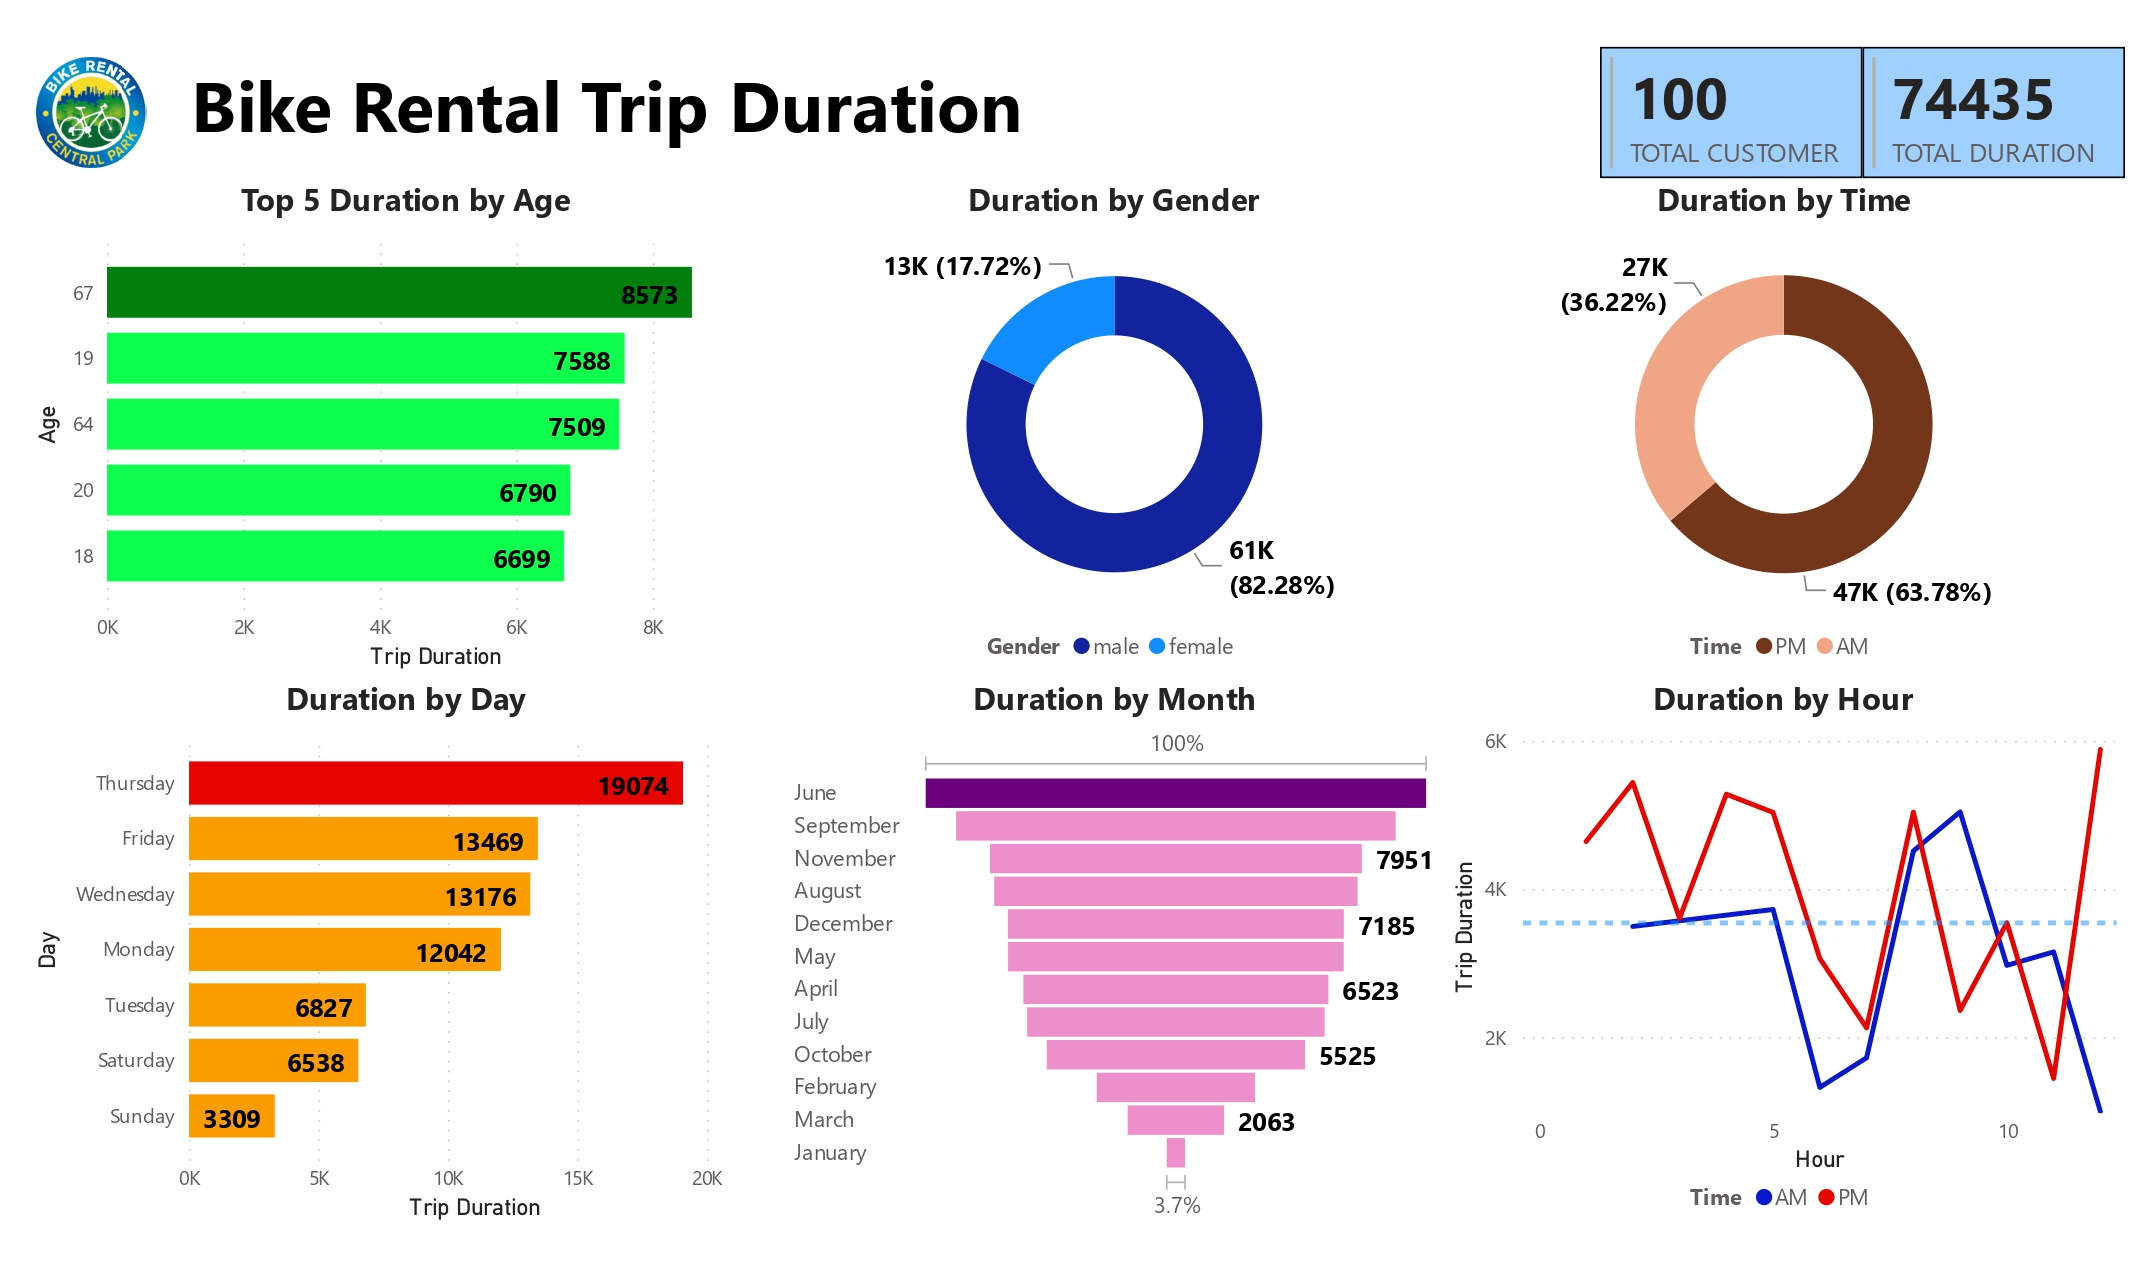

This screenshot's page, from the dashboard's own definition file:
{"tool":"powerbi","page":{"name":"Trip Duration","canvas":[1280,720],"ordinal":1},"visuals":[{"type":"donutChart","title":"Duration by Gender","fields":{"Category":["citibike_trips.gender"],"Y":["Sum(citibike_trips.tripduration)"]},"box":[464,80,400,304],"z":0},{"type":"clusteredBarChart","title":"Top 5 Duration by Age","fields":{"Y":["Sum(citibike_trips.tripduration)"],"Category":["citibike_trips.Customer_Age"]},"box":[0,80,464,304],"z":1000},{"type":"image","box":[0,0,80,80],"z":2000},{"type":"textbox","box":[96,0,544,80],"z":3000},{"type":"clusteredBarChart","title":"Duration by Day","fields":{"Y":["Sum(citibike_trips.tripduration)"],"Category":["citibike_trips.Day Name_starttime"]},"box":[0,384,464,336],"z":4000},{"type":"donutChart","title":"Duration by Time","fields":{"Y":["Sum(citibike_trips.tripduration)"],"Series":["citibike_trips.AM PM_starttime"]},"box":[864,80,416,304],"z":5000},{"type":"lineChart","title":"Duration by Hour","fields":{"Category":["citibike_trips.Hour_starttime"],"Y":["Sum(citibike_trips.tripduration)"],"Series":["citibike_trips.AM PM_starttime"]},"box":[864,384,416,336],"z":6000},{"type":"funnel","title":"Duration by Month","fields":{"Category":["citibike_trips.Month Name_starttime"],"Y":["Sum(citibike_trips.tripduration)"]},"box":[464,384,400,336],"z":7000},{"type":"multiRowCard","fields":{"Values":["CountNonNull(citibike_trips.bikeid)"]},"box":[960,0,160,80],"z":8000},{"type":"multiRowCard","fields":{"Values":["Sum(citibike_trips.tripduration)"]},"box":[1120,0,160,80],"z":9000}]}

Visuals, with their boxes on the page's 1280x720 design canvas (x1, y1, x2, y2). These are canvas units, not pixel positions in the 2150x1275 screenshot, which may show the page scaled, cropped or inside an application window:
"Duration by Gender" donutChart: pyautogui.locateOnScreen(464, 80, 864, 384)
"Top 5 Duration by Age" clusteredBarChart: pyautogui.locateOnScreen(0, 80, 464, 384)
image: pyautogui.locateOnScreen(0, 0, 80, 80)
textbox: pyautogui.locateOnScreen(96, 0, 640, 80)
"Duration by Day" clusteredBarChart: pyautogui.locateOnScreen(0, 384, 464, 720)
"Duration by Time" donutChart: pyautogui.locateOnScreen(864, 80, 1280, 384)
"Duration by Hour" lineChart: pyautogui.locateOnScreen(864, 384, 1280, 720)
"Duration by Month" funnel: pyautogui.locateOnScreen(464, 384, 864, 720)
multiRowCard - CountNonNull(citibike_trips.bikeid): pyautogui.locateOnScreen(960, 0, 1120, 80)
multiRowCard - Sum(citibike_trips.tripduration): pyautogui.locateOnScreen(1120, 0, 1280, 80)
